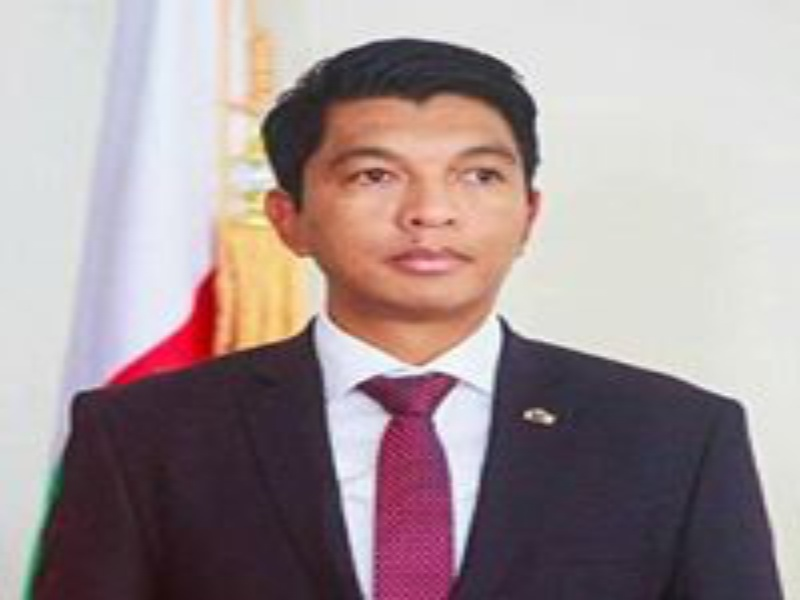TsisyArotava: (252, 57, 569, 349)
